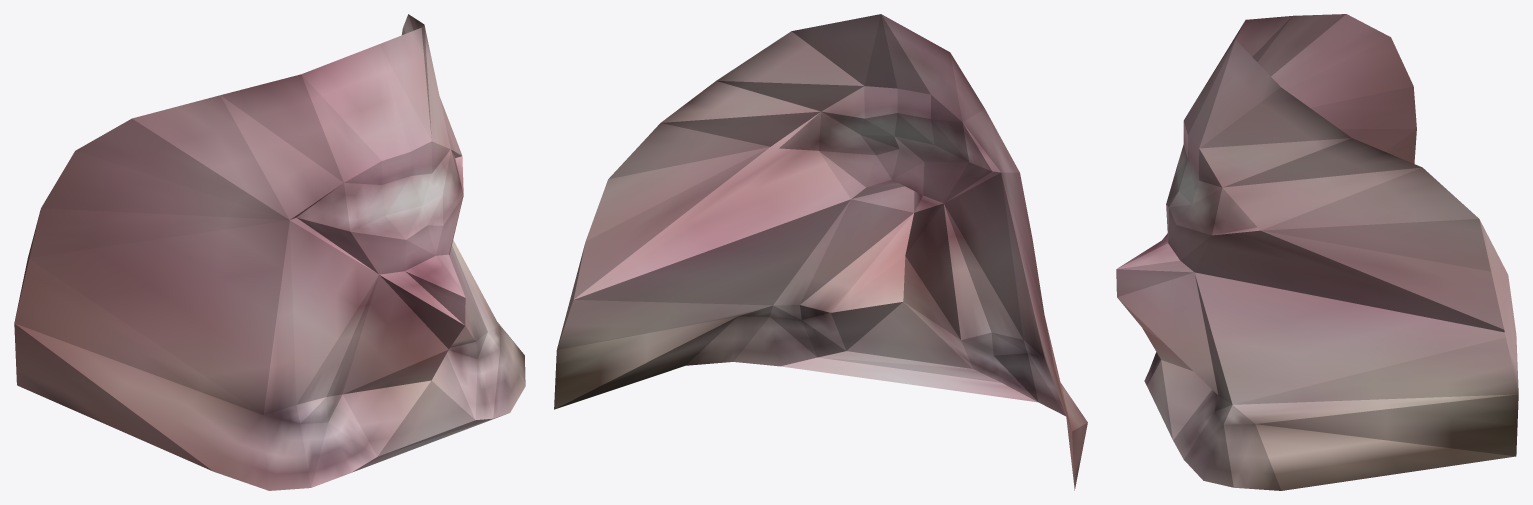
The model's file is real_18550.obj.
3 views of the same model, side by side, from view 1: azimuth 30°, elevation 25°; view 2: azimuth 150°, elevation 25°; view 3: azimuth 270°, elevation 25° (orthographic). The views are drawn at different scales.
Bounding box in the file's own units: 119 × 96 × 90.88.
